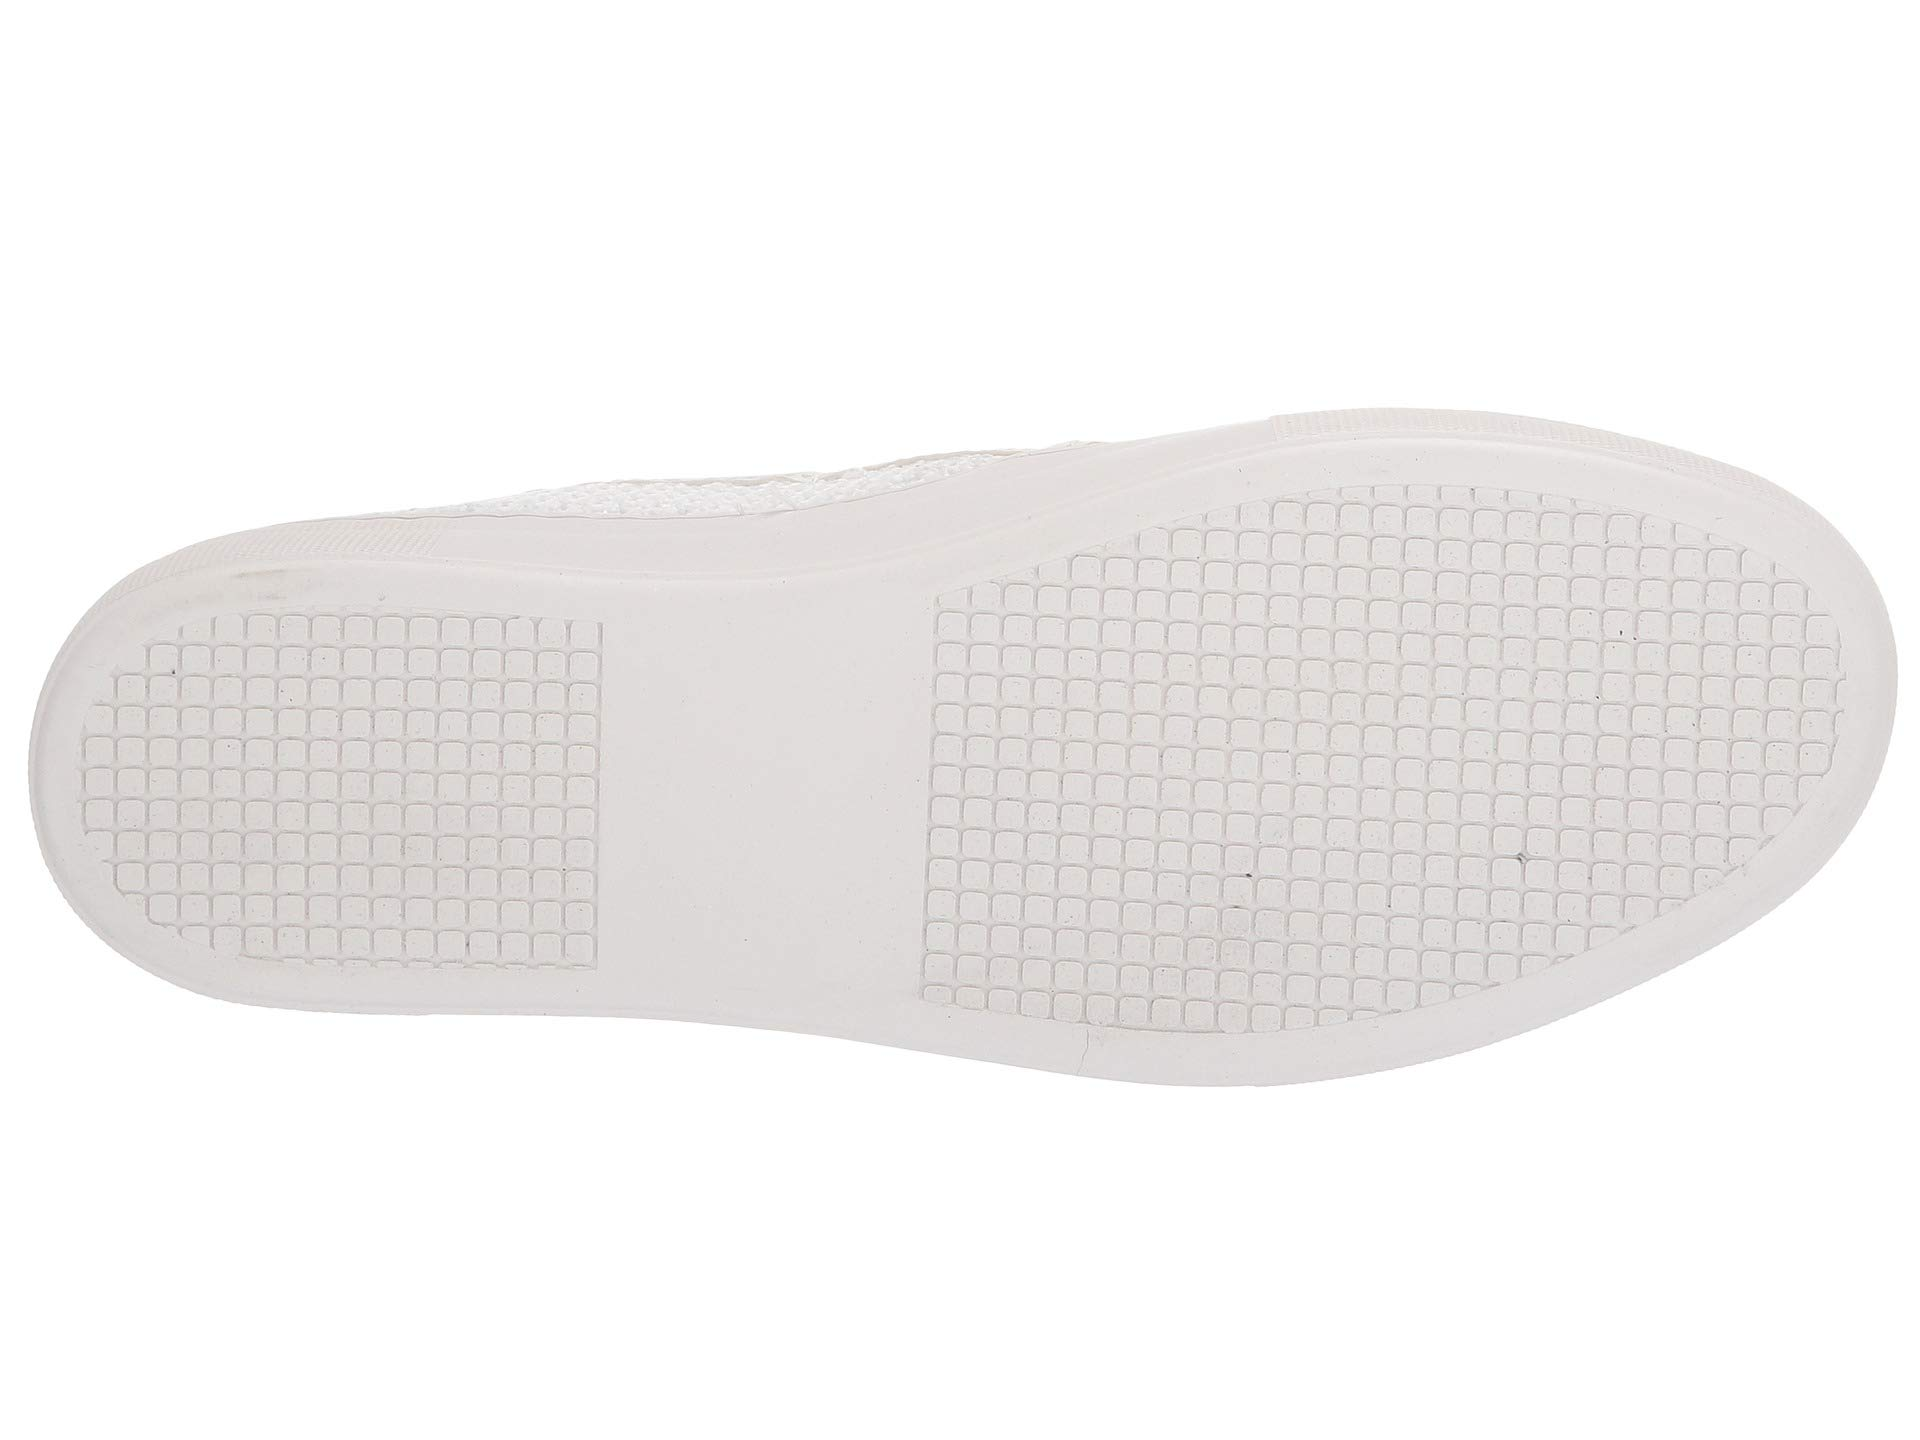quad: (1134, 573, 1473, 951), (242, 694, 435, 909), (1559, 554, 1733, 729)
